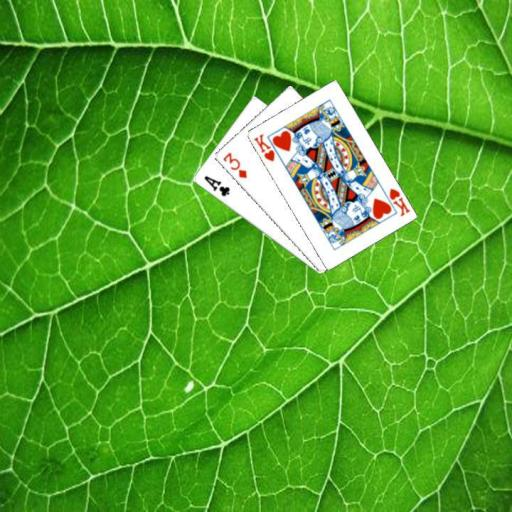3D: (219, 149, 248, 180)
AC: (201, 172, 231, 198)
KH: (250, 131, 276, 163), (385, 185, 411, 217)
